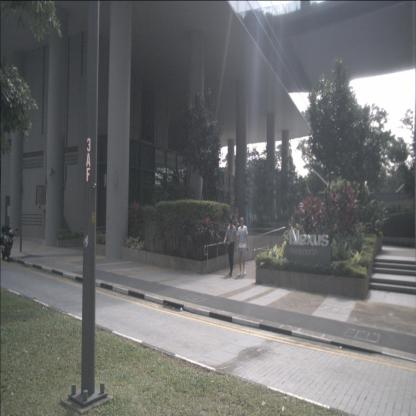human-pedestrian-adult: (224, 220, 237, 275), (236, 216, 248, 274)
vehicle-motorcycle: (0, 225, 18, 262)
